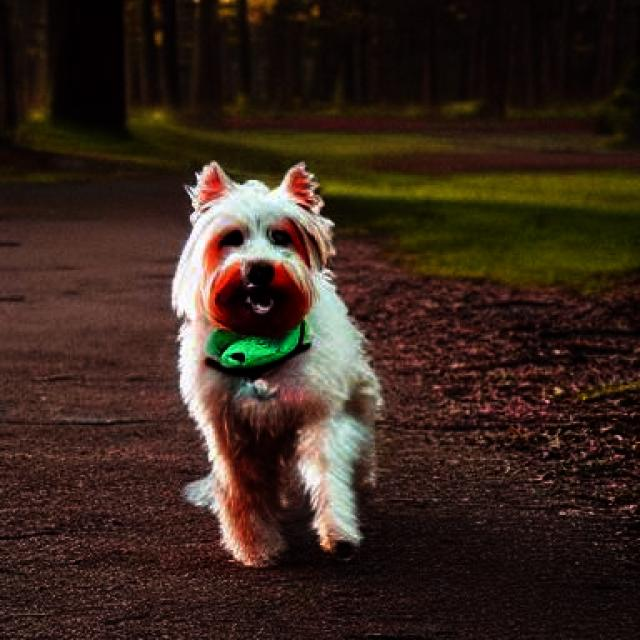Dog: (170, 159, 385, 571)
